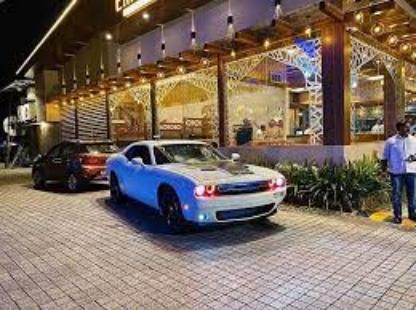car: (108, 132, 292, 240), (25, 134, 131, 198)
